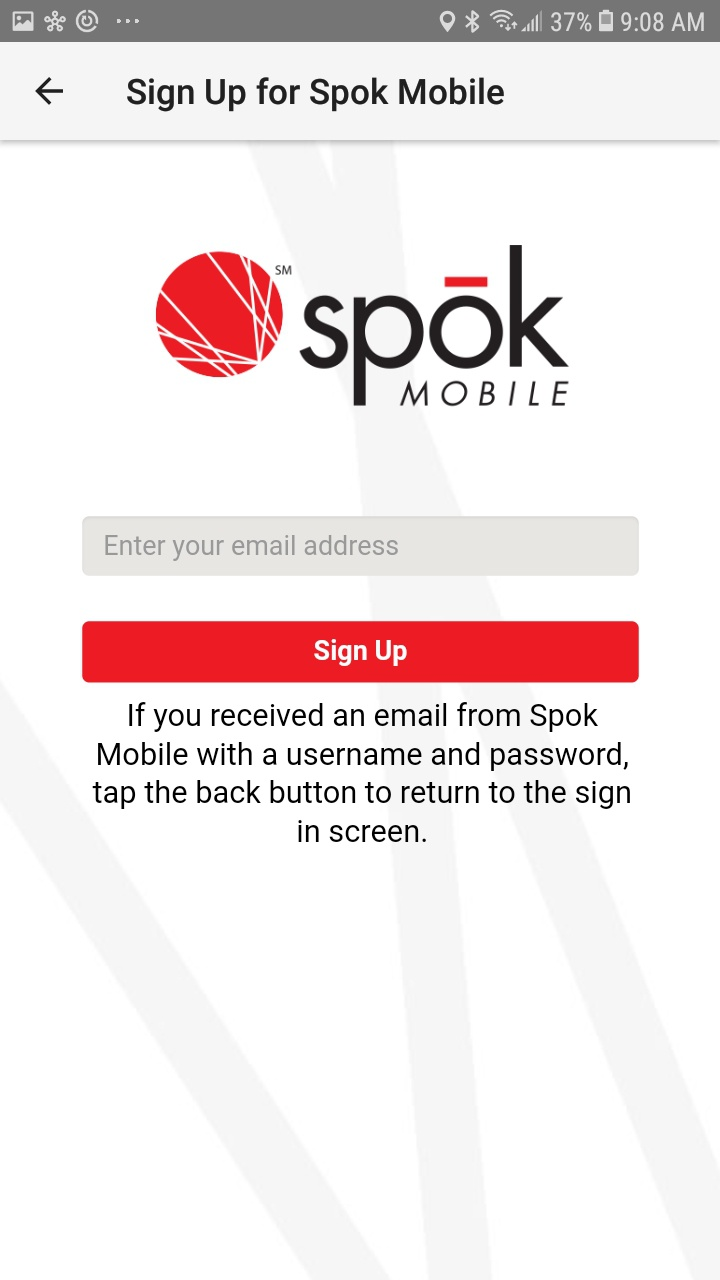BackgroundImage: (1, 141, 720, 1280)
EditText: (82, 516, 639, 577)
Icon: (35, 78, 64, 106)
Image: (156, 245, 570, 407)
Text: (92, 701, 631, 843), (127, 77, 505, 113), (106, 535, 399, 562)
TextButton: (83, 621, 640, 684)
UpperTaskBar: (1, 1, 720, 43)
